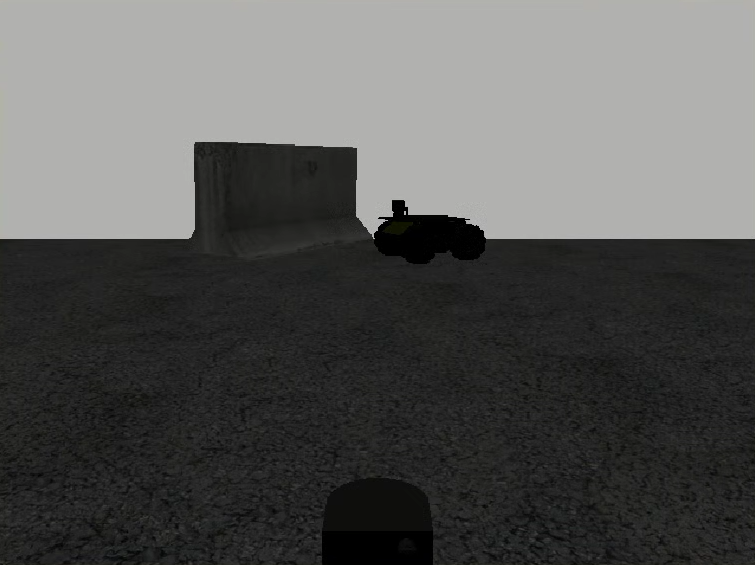husky: (372, 215, 486, 262)
